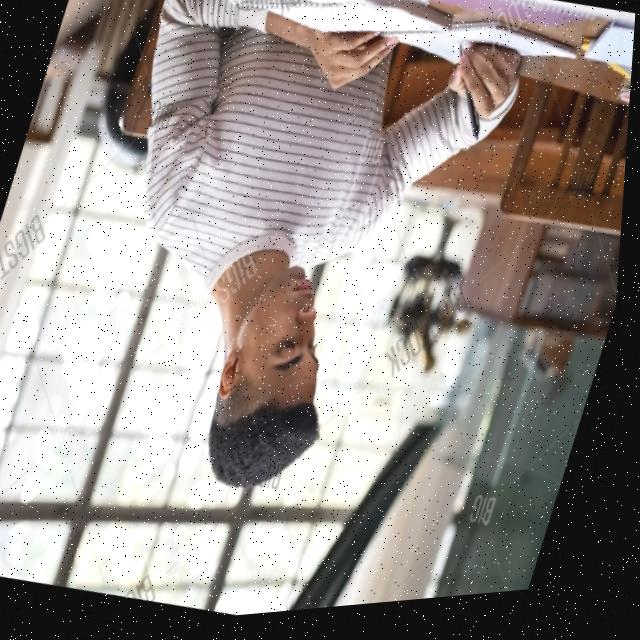studying-person: (131, 0, 583, 552)
